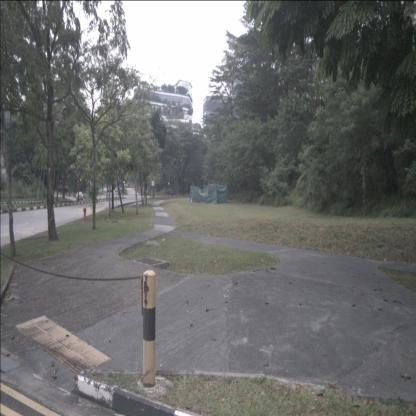vehicle-car: (58, 185, 70, 193), (76, 192, 84, 200)
vehicle-truck: (108, 184, 112, 192)
